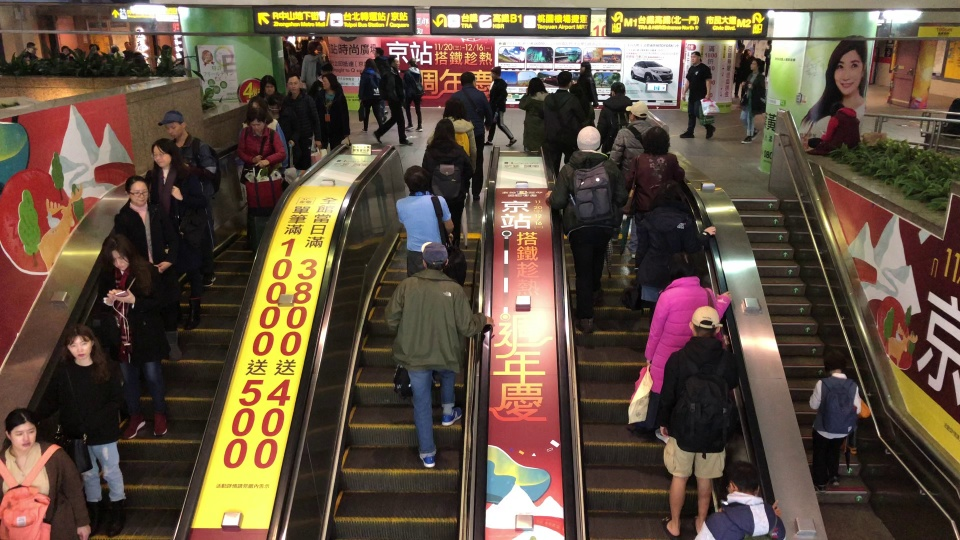person_head: (2, 407, 40, 451), (724, 460, 762, 497), (62, 323, 95, 363), (651, 181, 687, 213), (689, 305, 724, 337), (101, 235, 131, 271), (157, 109, 186, 140), (122, 175, 149, 208), (419, 241, 448, 270), (152, 138, 179, 169), (643, 126, 670, 155), (430, 119, 456, 149), (576, 124, 602, 152), (665, 262, 697, 284), (402, 164, 427, 192), (820, 348, 845, 375), (443, 97, 465, 121), (624, 100, 648, 122), (245, 112, 265, 134), (526, 77, 547, 96), (259, 75, 277, 97), (555, 70, 573, 91), (247, 95, 267, 113), (457, 70, 477, 88), (285, 75, 301, 94), (608, 82, 626, 97), (748, 58, 764, 73), (830, 103, 846, 118), (322, 74, 337, 89), (320, 62, 333, 76), (579, 61, 592, 75), (689, 51, 702, 64), (363, 58, 377, 70), (373, 46, 386, 58), (490, 66, 501, 80), (25, 41, 37, 53), (389, 54, 400, 67), (72, 46, 84, 57), (87, 43, 100, 53), (406, 57, 417, 68), (160, 44, 171, 54), (60, 45, 69, 55), (307, 44, 316, 54), (110, 44, 119, 53), (736, 44, 745, 53), (300, 38, 309, 46), (123, 41, 131, 49), (743, 49, 751, 57), (314, 35, 323, 41), (281, 34, 288, 40), (766, 39, 772, 45)
person_vbox: (384, 241, 494, 468), (655, 303, 739, 537), (545, 122, 630, 334), (50, 323, 131, 538), (93, 234, 169, 441), (643, 262, 731, 436), (113, 175, 183, 362), (0, 406, 94, 540), (157, 108, 225, 289), (636, 178, 715, 328), (145, 137, 202, 334), (624, 126, 686, 269), (808, 348, 862, 493), (694, 460, 786, 540), (420, 118, 472, 249), (608, 100, 651, 258), (237, 112, 286, 249), (394, 164, 451, 278), (442, 70, 490, 199), (424, 97, 476, 183), (543, 69, 582, 174), (237, 94, 289, 169), (373, 54, 413, 147), (678, 51, 716, 141), (281, 76, 316, 170), (517, 77, 560, 153), (804, 102, 862, 157), (596, 81, 633, 156), (316, 74, 352, 147), (484, 65, 514, 148), (738, 58, 766, 143), (398, 54, 428, 133), (357, 58, 386, 133), (570, 61, 599, 128), (372, 46, 392, 122), (259, 75, 282, 123), (738, 49, 756, 104), (310, 62, 334, 102), (301, 44, 318, 85), (733, 44, 746, 97), (762, 38, 775, 79), (156, 44, 177, 66), (313, 34, 330, 59), (24, 41, 39, 62), (280, 33, 295, 52), (122, 40, 134, 56), (299, 37, 310, 50)
